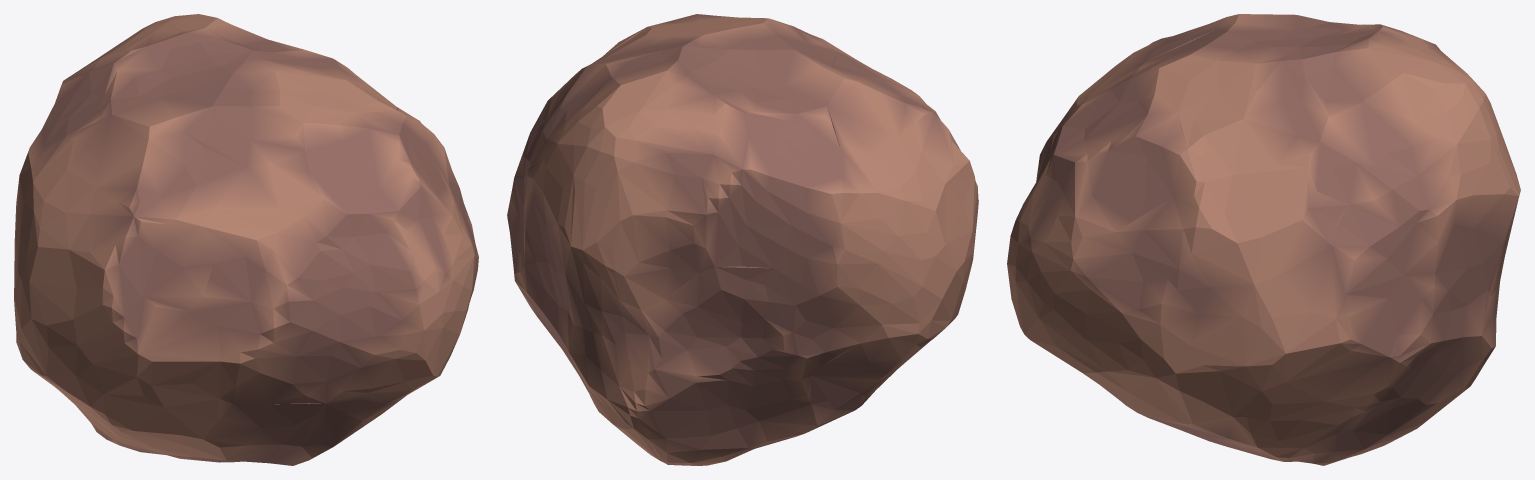
File: Meteorite6(broken).fbx
3 renders of one model, left to right at view 1: azimuth 30°, elevation 25°; view 2: azimuth 150°, elevation 25°; view 3: azimuth 270°, elevation 25°, orthographic. The views are drawn at different scales.
Visible parts, largest first — view 1: Meteorite9, Meteorite12, Meteorite13, Meteorite10, Meteorite11; view 2: Meteorite13, Meteorite12, Meteorite8, Meteorite7, Meteorite10, Meteorite9; view 3: Meteorite11, Meteorite13, Meteorite7, Meteorite9, Meteorite10, Meteorite12, Meteorite8.
Boxes of the visible parts, <box> form: Meteorite9: <box>187,106,474,415</box>; Meteorite12: <box>14,115,250,437</box>; Meteorite13: <box>28,14,413,152</box>; Meteorite10: <box>76,361,406,465</box>; Meteorite11: <box>398,109,478,399</box>; Meteorite13: <box>542,15,857,309</box>; Meteorite12: <box>773,44,978,380</box>; Meteorite8: <box>584,267,867,465</box>; Meteorite7: <box>507,118,648,392</box>; Meteorite10: <box>806,369,897,432</box>; Meteorite9: <box>648,14,907,87</box>; Meteorite11: <box>1030,149,1336,447</box>; Meteorite13: <box>1139,14,1520,220</box>; Meteorite7: <box>1233,163,1519,461</box>; Meteorite9: <box>1007,56,1193,344</box>; Meteorite10: <box>1123,403,1437,465</box>; Meteorite12: <box>1116,17,1225,65</box>; Meteorite8: <box>1387,321,1496,443</box>.
Bounding box in the file's own units: 2371 × 2127 × 2400.
